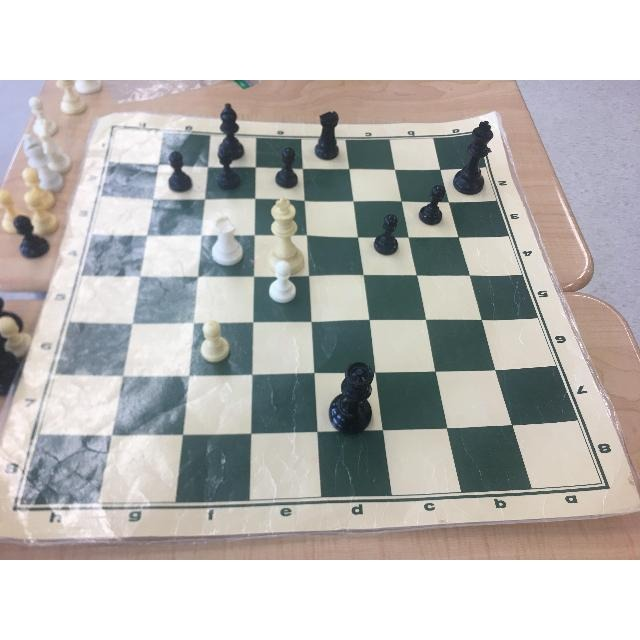black-bishop: (207, 106, 254, 159)
black-king: (456, 117, 496, 197)
black-pawn: (271, 136, 306, 191), (414, 173, 450, 226), (371, 207, 404, 261), (157, 150, 195, 194), (210, 148, 246, 187)
black-queen: (322, 361, 386, 434)
black-rook: (310, 103, 345, 161)
white-king: (264, 196, 310, 274)
white-pawn: (261, 255, 307, 301), (192, 316, 236, 364)
white-rook: (206, 209, 246, 269)
